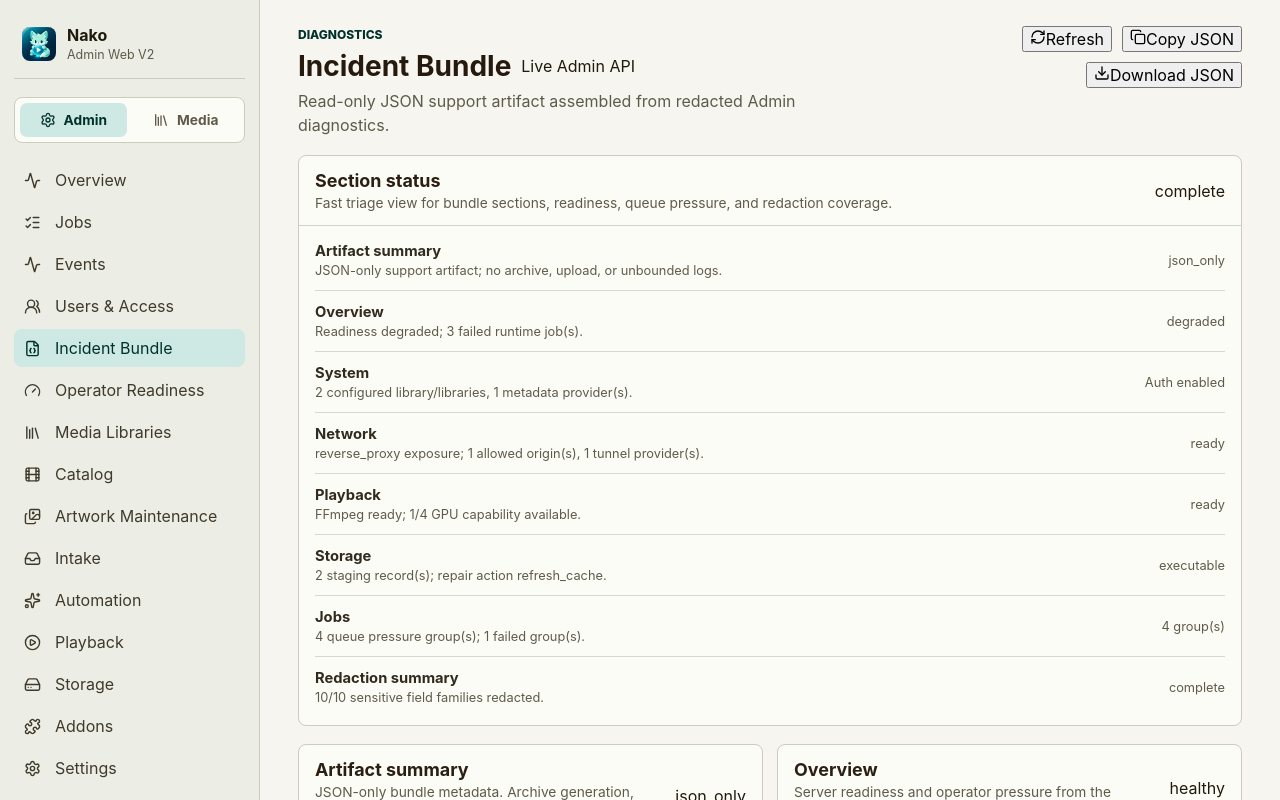
Test: Admin Web V2 route shell › downloads only the redacted Incident Bundle JSON projection
The image size is (1280, 800).
Expected: the heading "Incident Bundle" is shown, [298,50,511,82]
Expected: the heading "Artifact summary" is shown, [315,759,468,780]
Click the button "Download JSON" at (1164, 75), box [1086,62,1242,88]
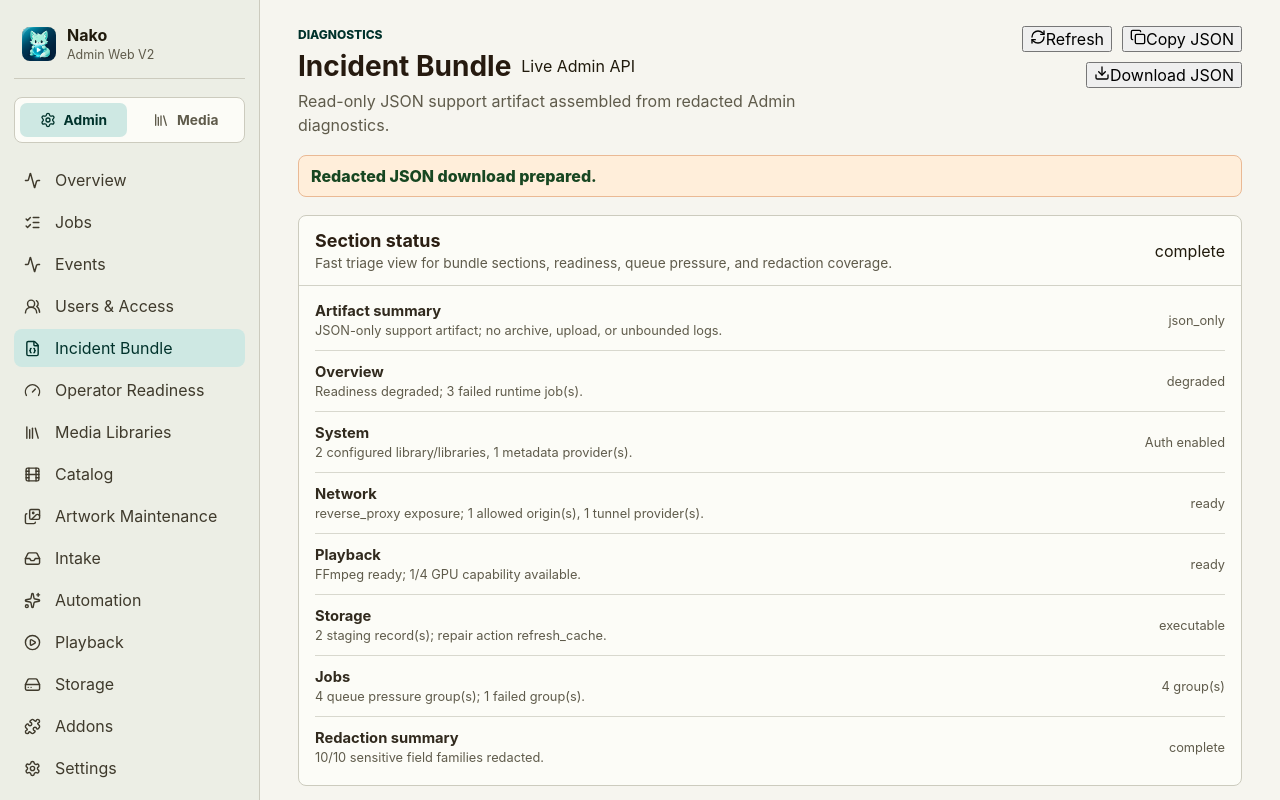
Now the text "Redacted JSON download prepared." is shown, box [311,166,597,186]
